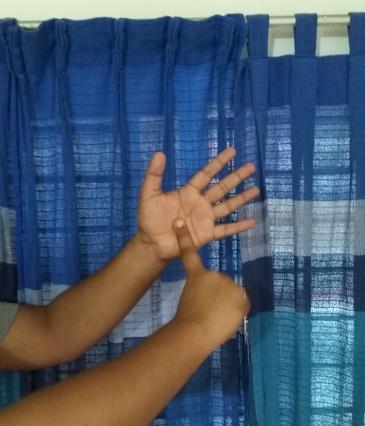oo: (136, 148, 263, 333)
